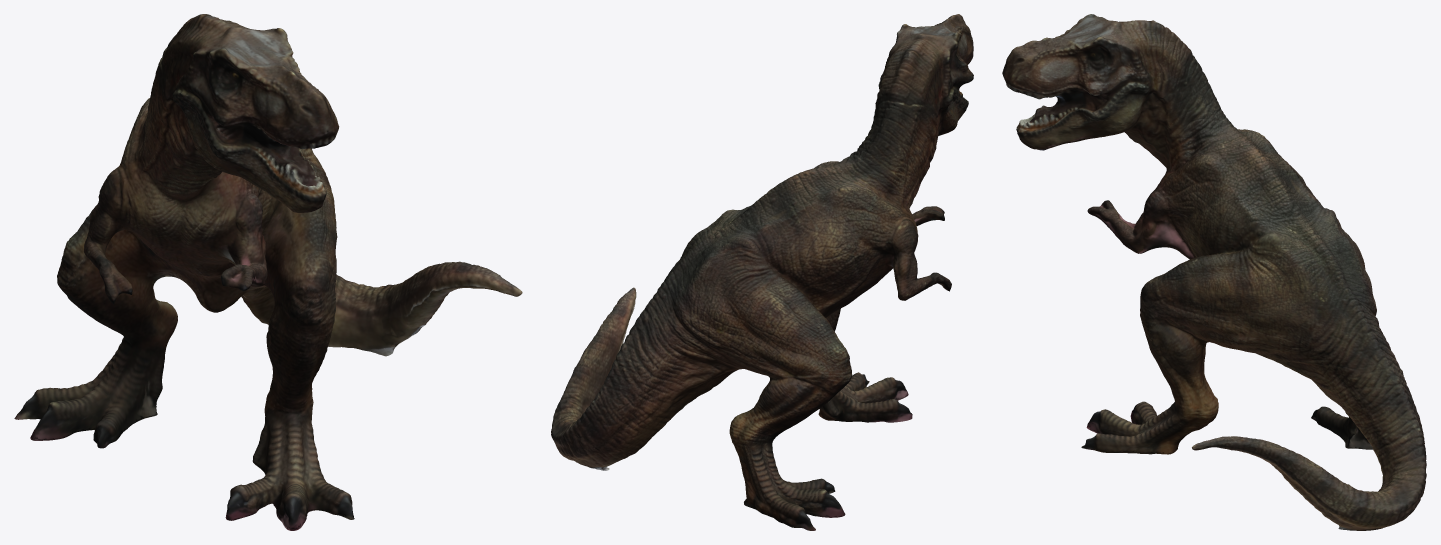
File: t-rex_3d_scan.glb
The picture shows the model from 3 angles, left to right: view 1: azimuth 30°, elevation 25°; view 2: azimuth 150°, elevation 25°; view 3: azimuth 270°, elevation 25°; orthographic projection. The views are drawn at different scales.
Visible parts, largest first — view 1: Object_2, Object_3, Object_4; view 2: Object_3, Object_2, Object_4; view 3: Object_3, Object_2, Object_4.
Part boxes in pixels (bbox=[...]): Object_2: bbox=[14, 28, 512, 448]; Object_3: bbox=[85, 14, 522, 356]; Object_4: bbox=[99, 68, 354, 530]; Object_3: bbox=[551, 24, 964, 464]; Object_2: bbox=[557, 14, 973, 530]; Object_4: bbox=[692, 15, 973, 422]; Object_3: bbox=[1093, 15, 1426, 528]; Object_2: bbox=[1002, 14, 1414, 530]; Object_4: bbox=[1009, 40, 1365, 454].
Size of the model in its own units: 14.72 by 17.29 by 16.57.
Materials: 1 (1 with a texture image).
